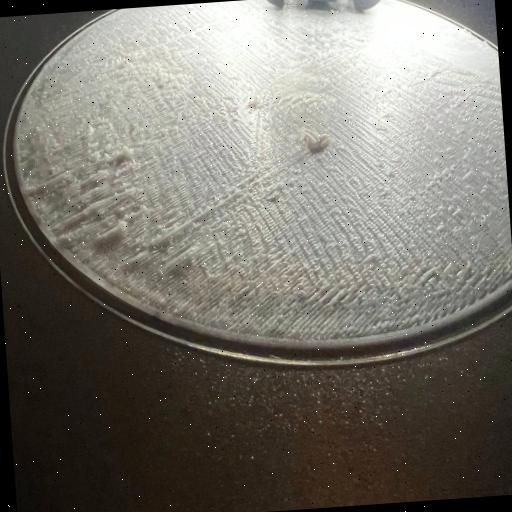blobs: (84, 220, 131, 247), (303, 125, 333, 159), (110, 147, 136, 166), (247, 92, 265, 115)
